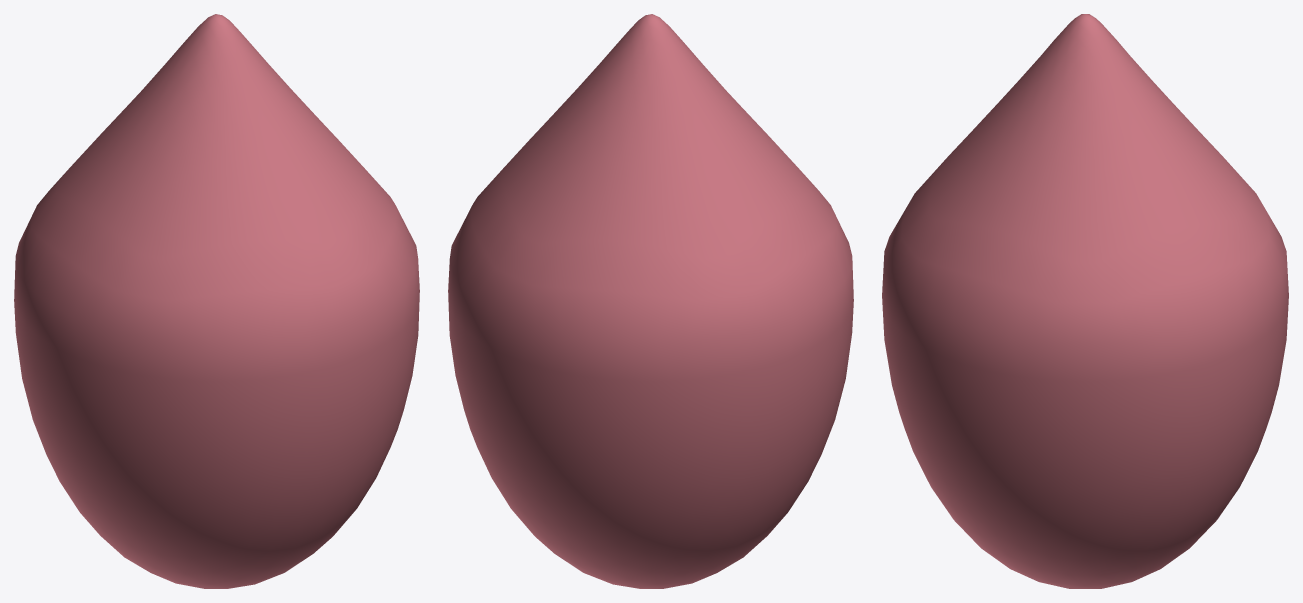
Rendered from shallot.glb.
3 views of the same model, side by side, from view 1: azimuth 30°, elevation 25°; view 2: azimuth 150°, elevation 25°; view 3: azimuth 270°, elevation 25° (orthographic).
Visible parts, largest first — view 1: Shallot_Bulb; view 2: Shallot_Bulb; view 3: Shallot_Bulb.
Boxes of the visible parts, box(x1,y1,x2,y2) form: Shallot_Bulb: box(14, 14, 419, 588); Shallot_Bulb: box(448, 14, 853, 588); Shallot_Bulb: box(882, 14, 1288, 588).
Size of the model in its own units: 0.0342 by 0.0522 by 0.0342.
